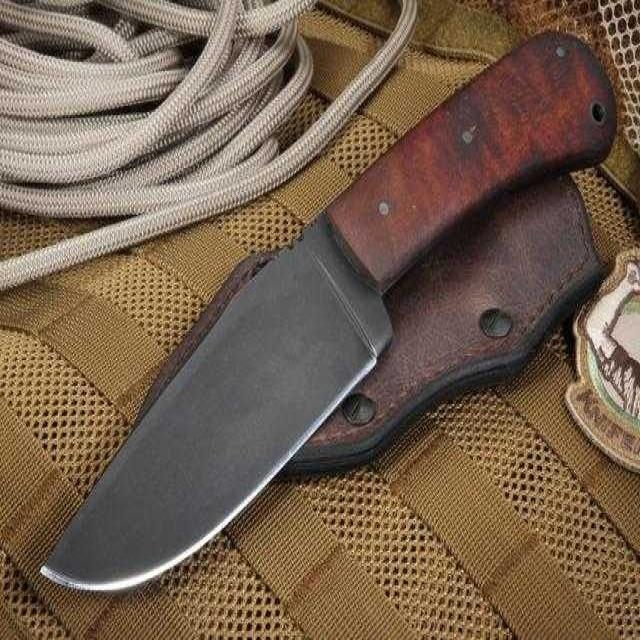Knife: (38, 22, 618, 603)
